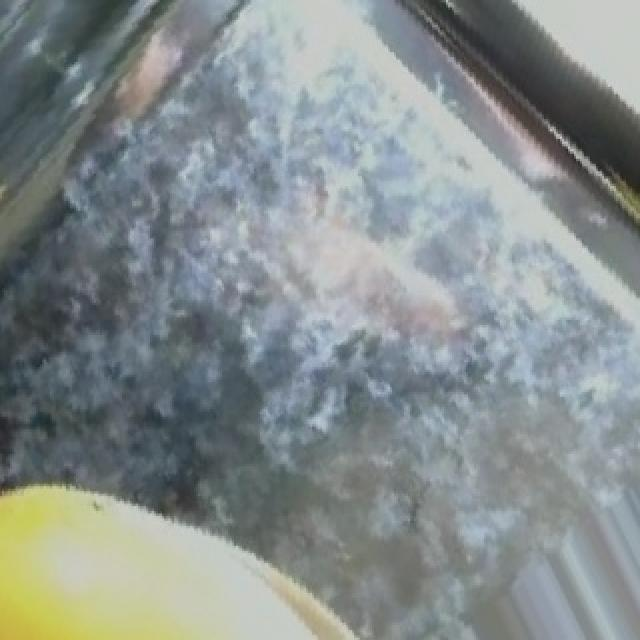fruit: (0, 426, 294, 640)
